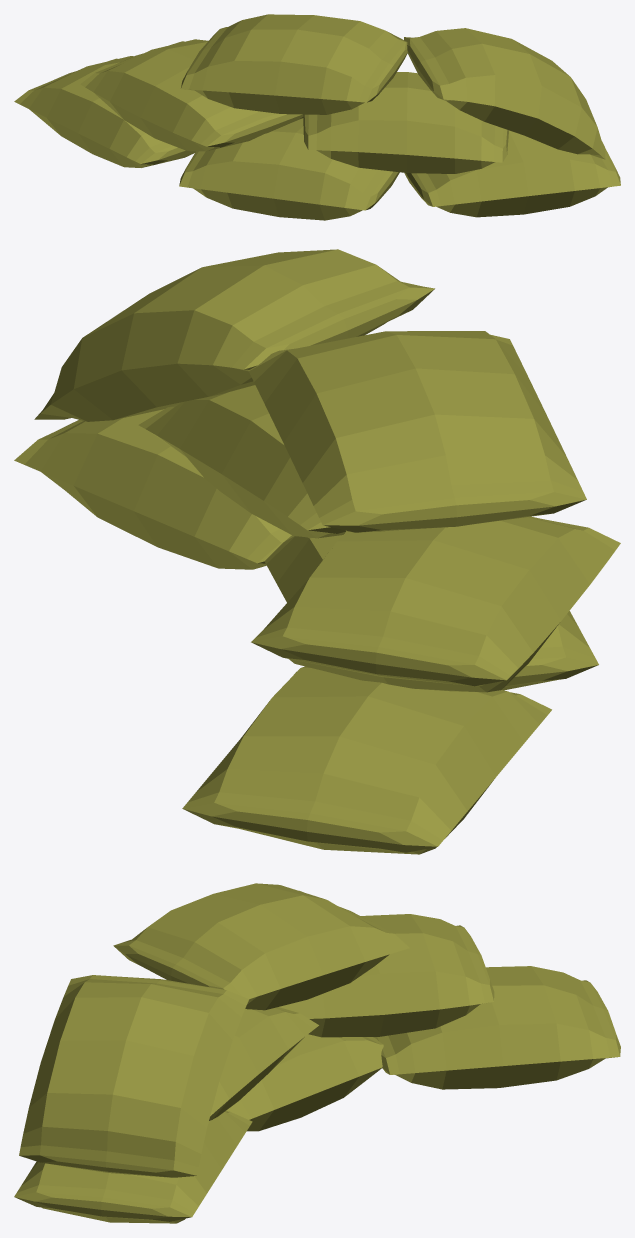
File: Sand_Bag_Curve.FBX
The picture shows the model from 3 angles, top to bottom: view 1: azimuth 30°, elevation 25°; view 2: azimuth 150°, elevation 25°; view 3: azimuth 270°, elevation 25°; orthographic projection. The views are drawn at different scales.
Visible parts, largest first — view 1: Box001; view 2: Box001; view 3: Box001.
Part boxes in pixels (bbox=[...]): Box001: bbox=[14, 14, 620, 220]; Box001: bbox=[14, 249, 620, 854]; Box001: bbox=[14, 883, 620, 1223].
Size of the model in its own units: 124 by 135 by 50.13.
